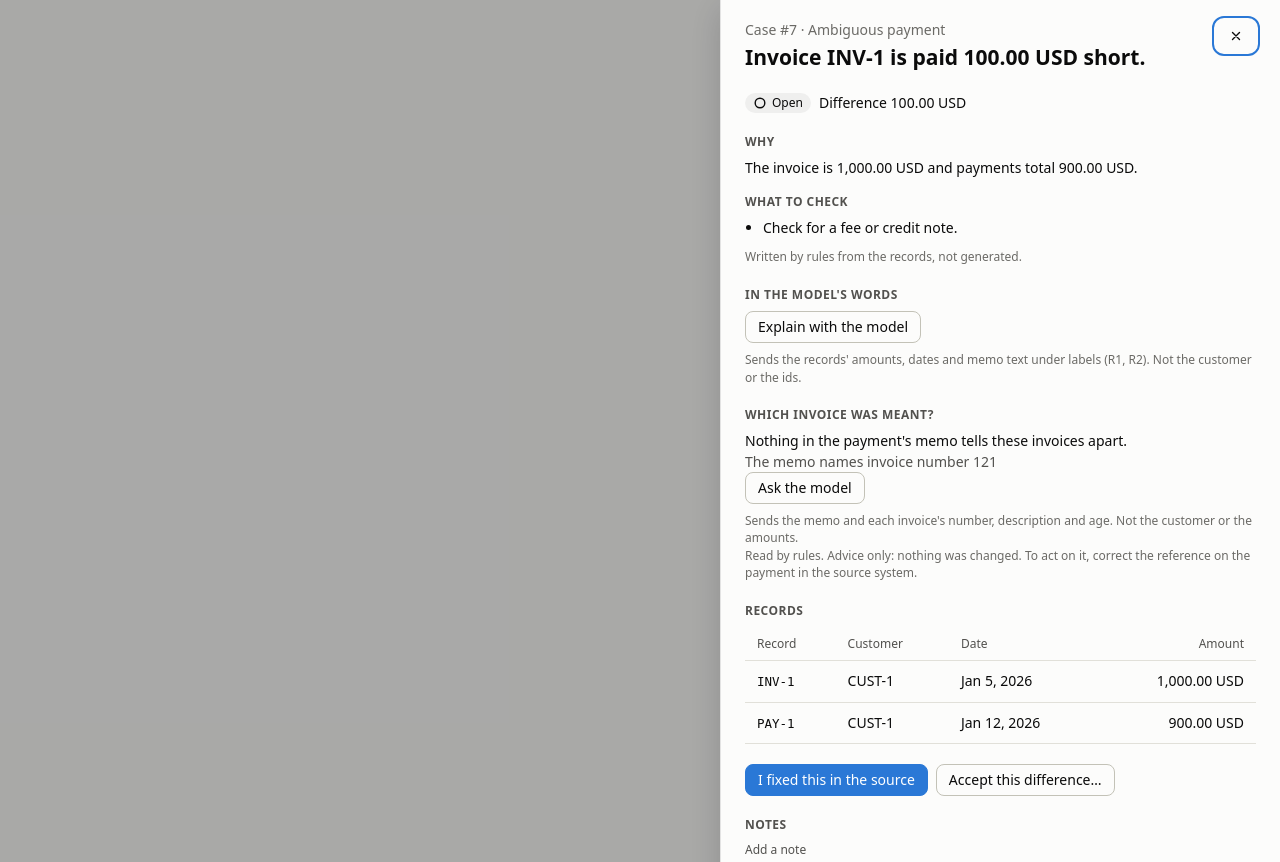
Test: SuggestionSection › shows why asking failed without losing the suggestion
Step 1. Click the button "Ask the model" → [805, 488], box [745,472,865,504]
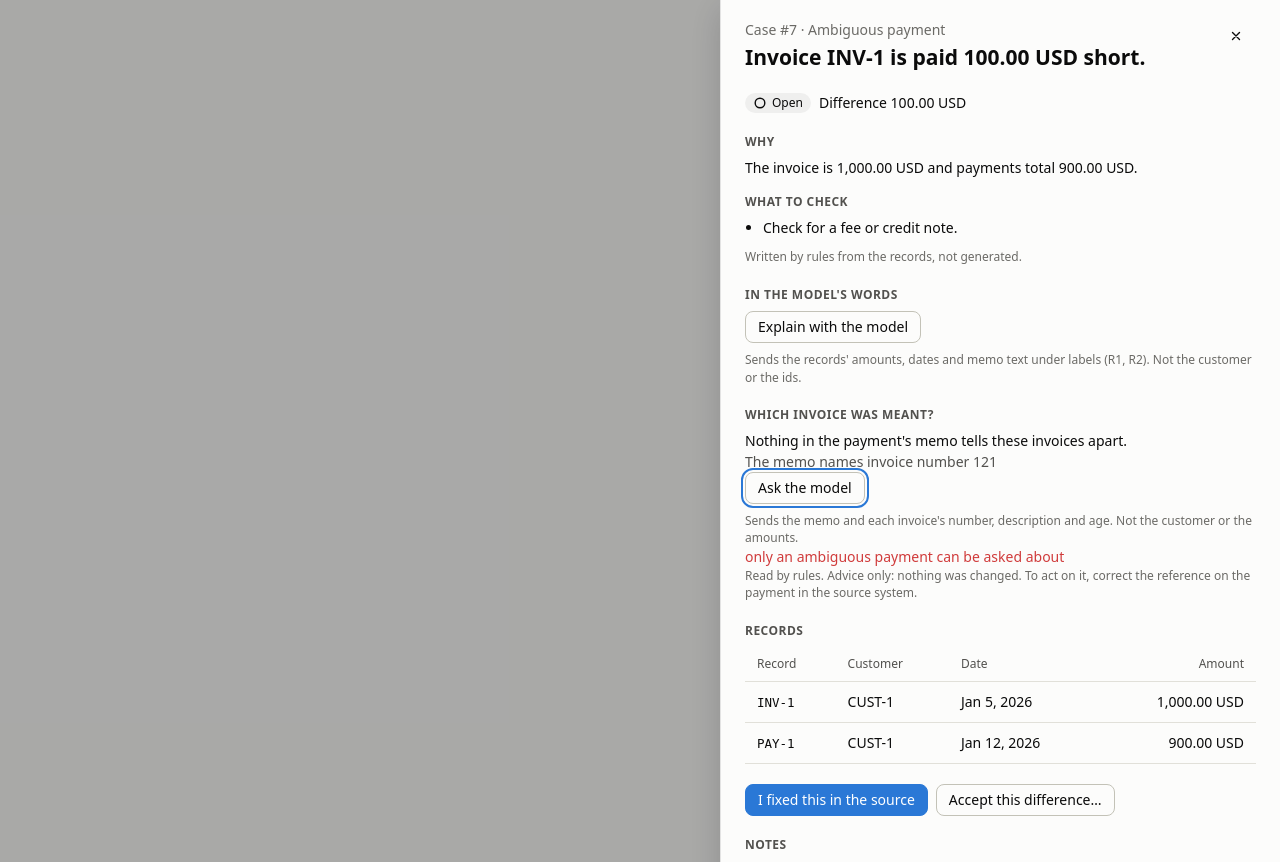
Expected: the text "Nothing in the payment's memo tells these invoices apart." is shown, [745,431,1127,450]
Now the message shows "only an ambiguous payment", box [745,547,1064,566]
